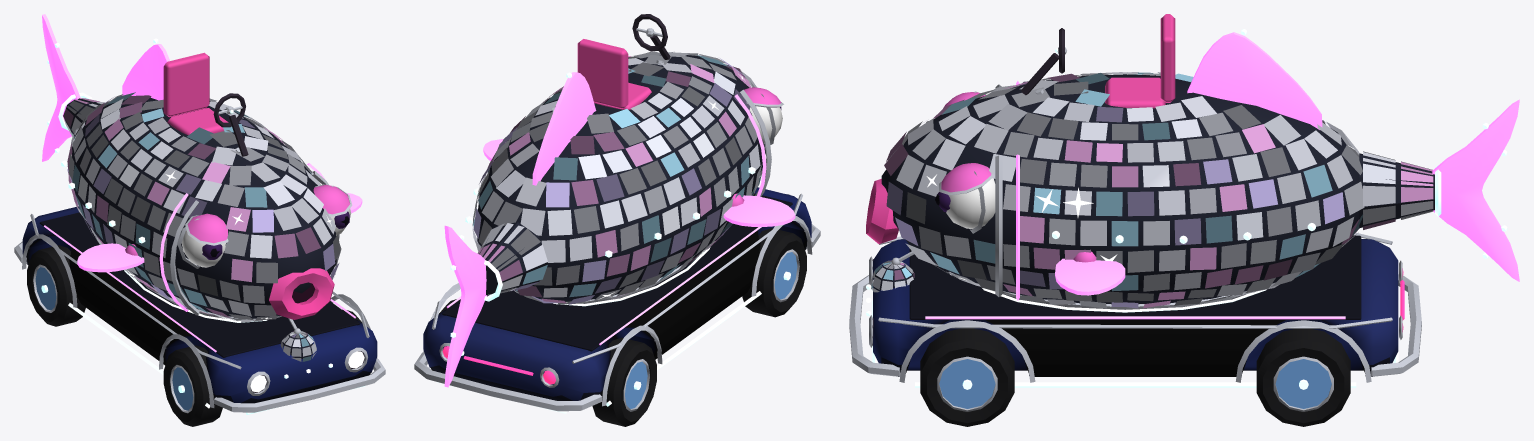
Rendered from glitterfin_lo.glb.
3 views of the same model, side by side, from view 1: azimuth 30°, elevation 25°; view 2: azimuth 150°, elevation 25°; view 3: azimuth 270°, elevation 25° (orthographic). The views are drawn at different scales.
Parts seen in each view (by area): view 1: tiles, fish_core, hull, deck, seat_back, wheel_FR_tyre, wheel_RR_tyre, lips, tail_fin, bumper_1, dorsal, finR_fin (+16 smaller); view 2: tiles, hull, fish_core, deck, tail_fin, dorsal, seat_back, wheel_RR_tyre, wheel_FR_tyre, tail_peduncle, bumper_0, finR_fin (+15 smaller); view 3: tiles, fish_core, hull, deck, tail_fin, dorsal, wheel_FL_tyre, wheel_RL_tyre, tail_peduncle, finL_fin, wheel_FL_dish, wheel_RL_dish (+17 smaller).
Part boxes in pixels (bbox=[...]): tiles: bbox=[67, 92, 341, 322]; fish_core: bbox=[72, 97, 336, 318]; hull: bbox=[22, 206, 377, 403]; deck: bbox=[39, 212, 360, 357]; seat_back: bbox=[163, 52, 209, 117]; wheel_FR_tyre: bbox=[163, 345, 222, 426]; wheel_RR_tyre: bbox=[27, 245, 85, 326]; lips: bbox=[269, 268, 334, 319]; tail_fin: bbox=[42, 14, 80, 161]; bumper_1: bbox=[214, 358, 385, 412]; dorsal: bbox=[122, 44, 169, 100]; finR_fin: bbox=[77, 243, 144, 272]; tiles: bbox=[472, 51, 766, 304]; hull: bbox=[423, 187, 811, 400]; fish_core: bbox=[477, 55, 765, 301]; deck: bbox=[442, 193, 792, 351]; tail_fin: bbox=[444, 225, 487, 387]; dorsal: bbox=[532, 72, 596, 185]; seat_back: bbox=[577, 39, 628, 109]; wheel_RR_tyre: bbox=[592, 337, 656, 426]; wheel_FR_tyre: bbox=[742, 228, 806, 317]; tail_peduncle: bbox=[477, 223, 547, 295]; bumper_0: bbox=[414, 352, 601, 411]; finR_fin: bbox=[723, 195, 795, 226]; tiles: bbox=[884, 72, 1364, 308]; fish_core: bbox=[881, 74, 1359, 304]; hull: bbox=[873, 239, 1398, 376]; deck: bbox=[909, 235, 1361, 319]; tail_fin: bbox=[1432, 99, 1519, 281]; dorsal: bbox=[1187, 32, 1322, 129]; wheel_FL_tyre: bbox=[920, 328, 1014, 426]; wheel_RL_tyre: bbox=[1256, 329, 1350, 426]; tail_peduncle: bbox=[1363, 151, 1433, 229]; finL_fin: bbox=[1055, 258, 1125, 295]; wheel_FL_dish: bbox=[939, 359, 995, 408]; wheel_RL_dish: bbox=[1275, 359, 1331, 408].
Size of the model in its own units: 3.78 by 3.69 by 6.38.
